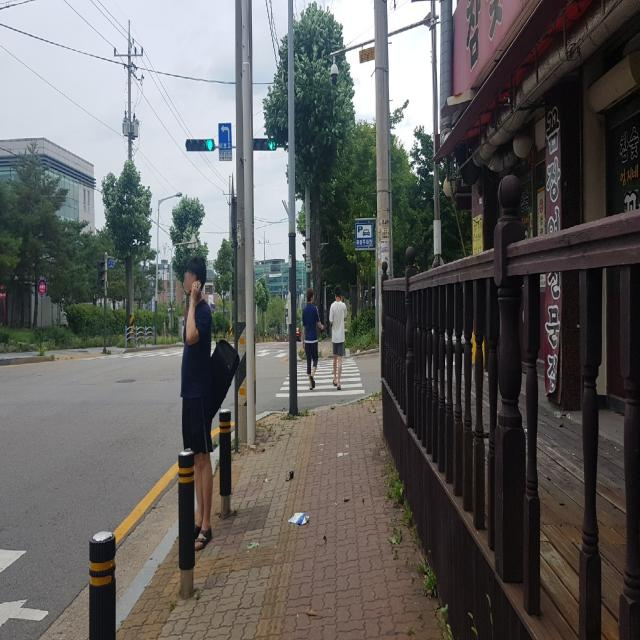횡단보도: (274, 357, 365, 398)
